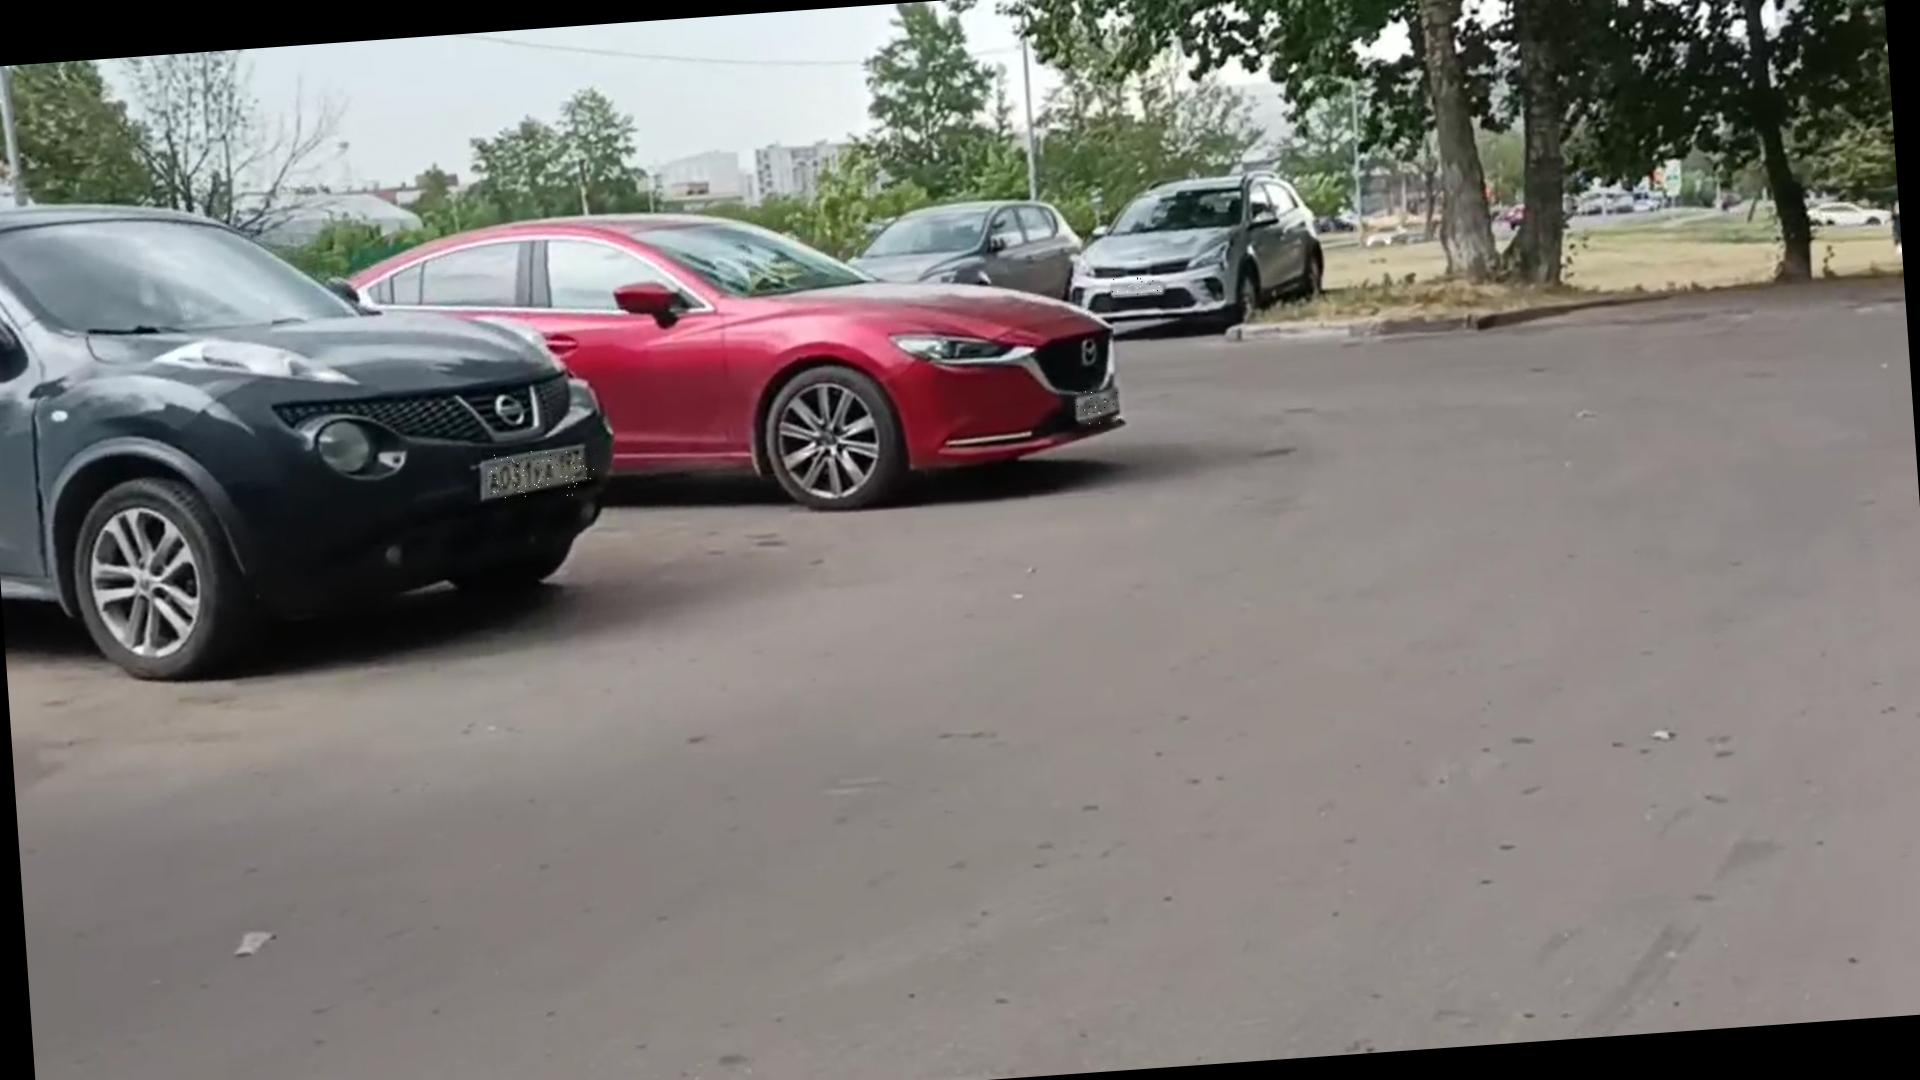plate: (482, 448, 602, 503), (1075, 391, 1123, 428), (1112, 277, 1163, 297)
